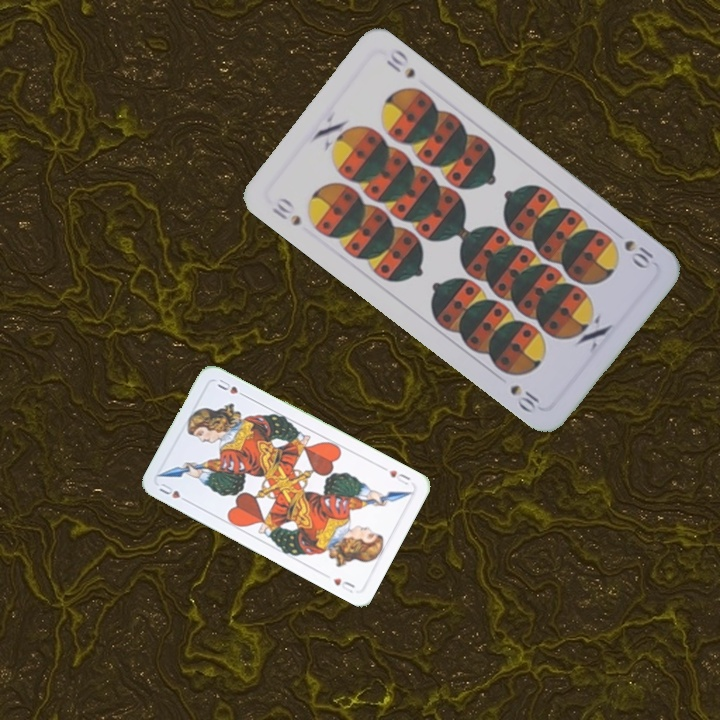HU: (155, 478, 192, 505), (385, 466, 413, 488)
S10: (267, 193, 304, 229), (620, 235, 656, 271)
